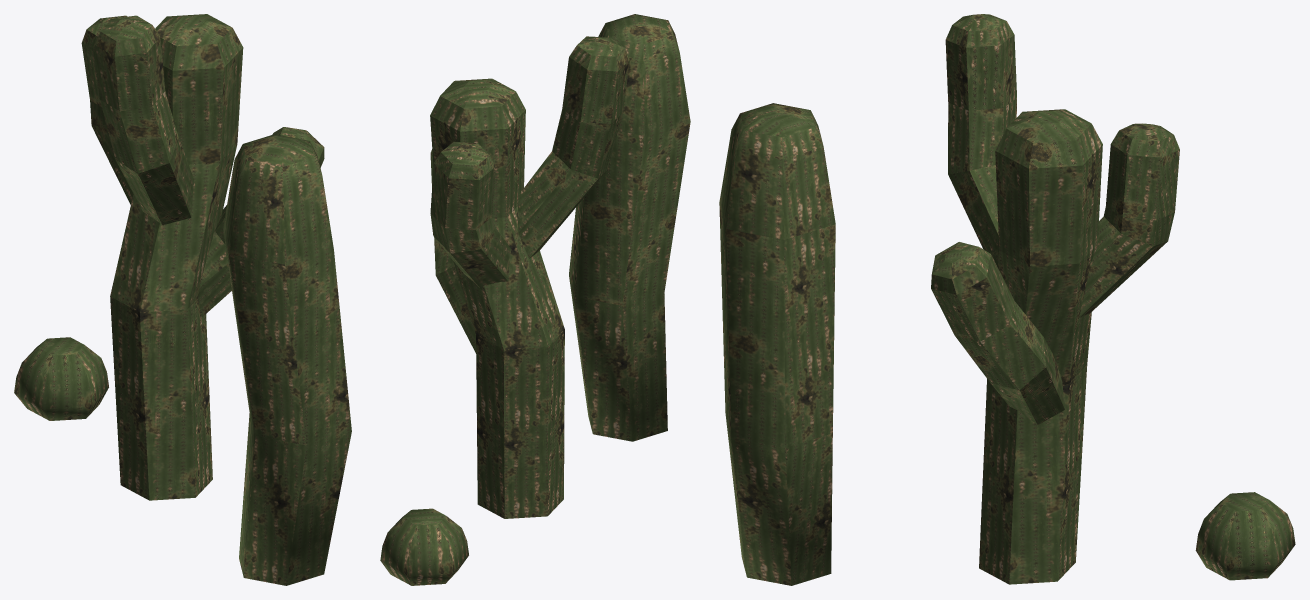
Rendered from oldwest_08.obj.
3 views of the same model, side by side, from view 1: azimuth 30°, elevation 25°; view 2: azimuth 150°, elevation 25°; view 3: azimuth 270°, elevation 25° (orthographic). The views are drawn at different scales.
Parts seen in each view (by area): view 1: Cylinder.004, Cylinder.008, Cylinder.009, Cylinder.005, Cylinder.011, Cylinder.010; view 2: Cylinder.004, Cylinder.008, Cylinder.009, Cylinder.010, Cylinder.005, Cylinder.011; view 3: Cylinder.004, Cylinder.008, Cylinder.011, Cylinder.009, Cylinder.010, Cylinder.005.
Boxes of the visible parts, x1=… form: Cylinder.004: x1=223, y1=134, x2=351, y2=585; Cylinder.008: x1=110, y1=14, x2=243, y2=500; Cylinder.009: x1=95, y1=15, x2=193, y2=225; Cylinder.005: x1=14, y1=337, x2=108, y2=420; Cylinder.011: x1=198, y1=127, x2=324, y2=317; Cylinder.010: x1=81, y1=15, x2=133, y2=204; Cylinder.004: x1=569, y1=14, x2=690, y2=441; Cylinder.008: x1=430, y1=78, x2=564, y2=518; Cylinder.009: x1=518, y1=36, x2=629, y2=258; Cylinder.010: x1=430, y1=141, x2=511, y2=289; Cylinder.005: x1=380, y1=508, x2=468, y2=585; Cylinder.011: x1=430, y1=149, x2=476, y2=353; Cylinder.004: x1=719, y1=103, x2=835, y2=585; Cylinder.008: x1=979, y1=109, x2=1102, y2=584; Cylinder.011: x1=931, y1=242, x2=1064, y2=424; Cylinder.009: x1=945, y1=14, x2=1016, y2=266; Cylinder.010: x1=1079, y1=123, x2=1179, y2=317; Cylinder.005: x1=1195, y1=492, x2=1295, y2=580.
Bounding box in the file's own units: 1.46 × 3.24 × 3.28.
Materials: 1 (1 with a texture image).
